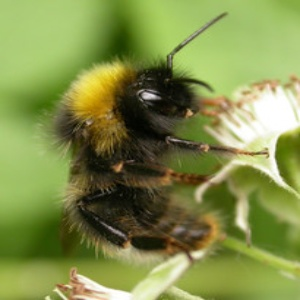bee: (48, 12, 241, 269)
